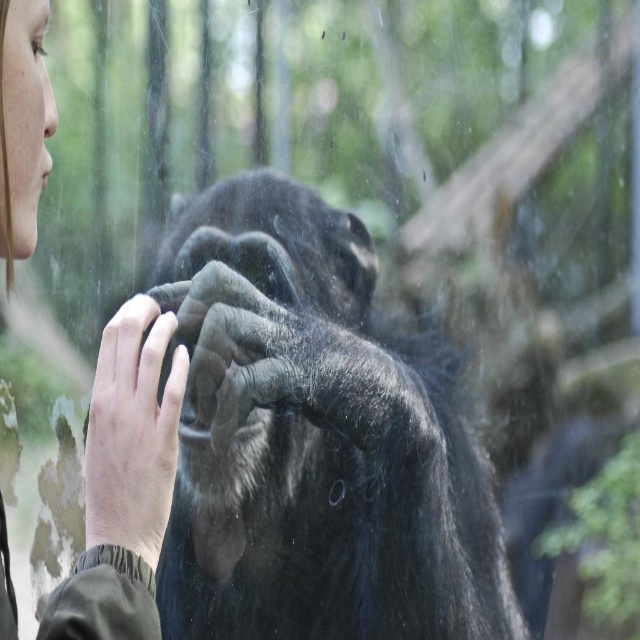Monkey: (76, 170, 538, 640)
